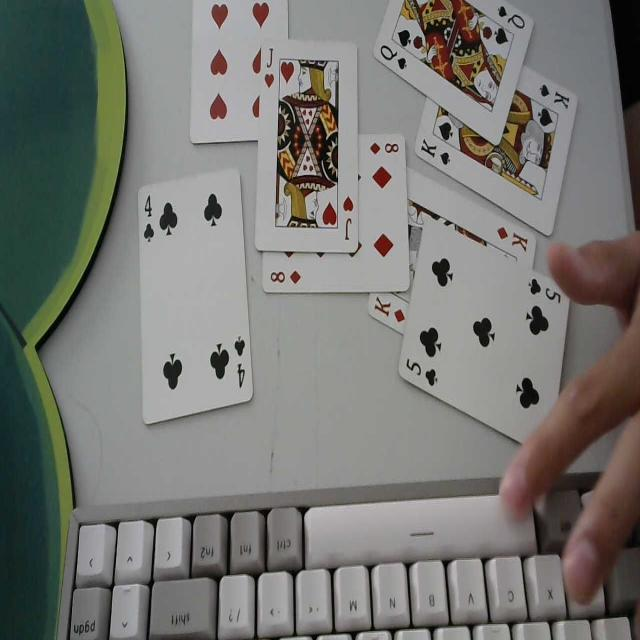4C: (232, 330, 250, 394), (140, 191, 156, 245)
5C: (527, 272, 563, 310), (404, 354, 440, 390)
8D: (268, 268, 303, 286), (371, 139, 404, 157)
JH: (341, 191, 357, 246), (263, 44, 277, 90)
KD: (496, 218, 532, 260), (375, 291, 409, 327)
KS: (536, 78, 572, 110), (419, 138, 452, 166)
QS: (378, 44, 412, 76), (494, 2, 530, 28)
